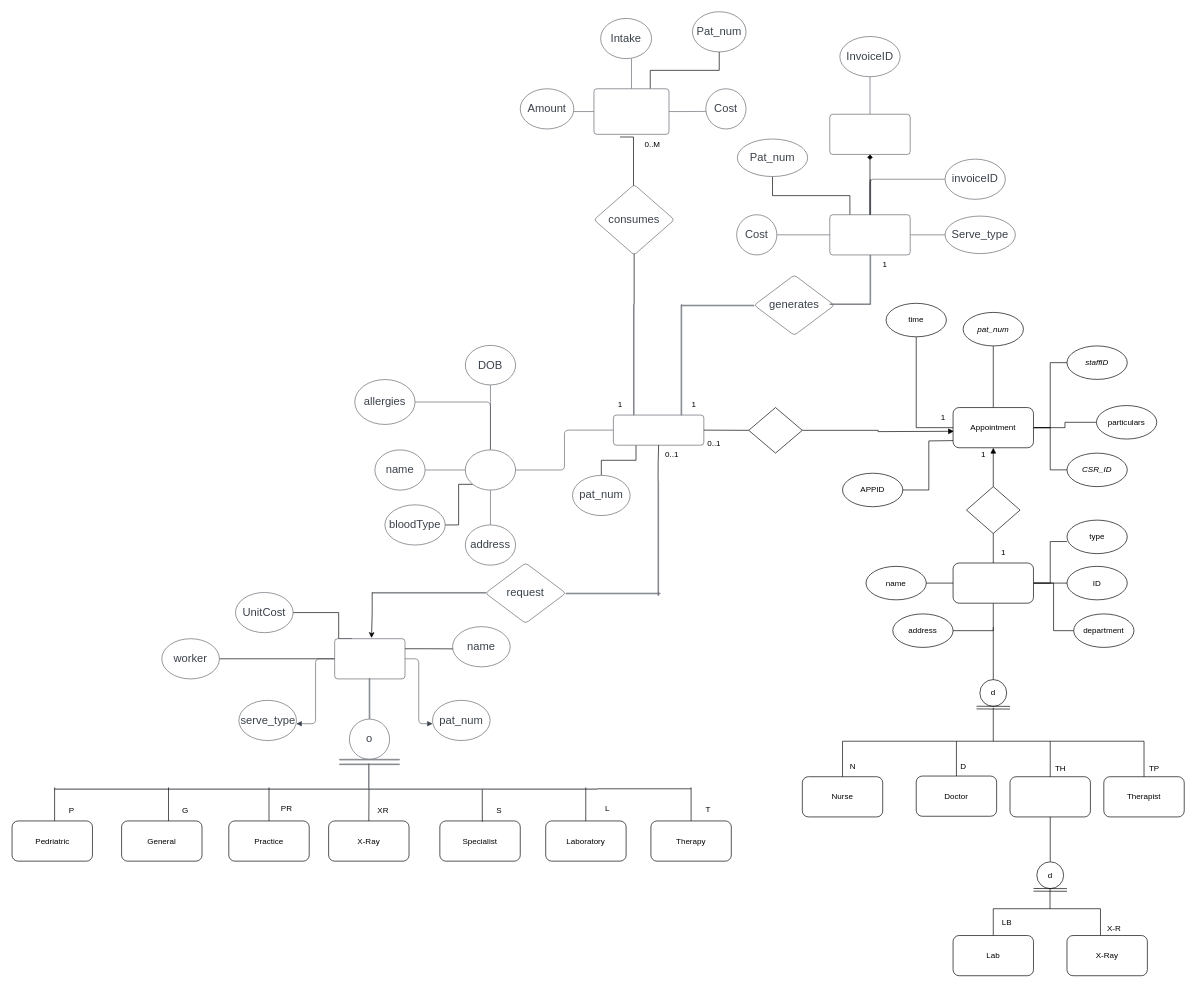
Image size: 1196x988. Some labels were removed from this diagram. The centre of each missing label's shape, as x and y in pixels:
accepts: point (993, 510)
details: point (490, 469)
Drug: point (631, 111)
Invoice: point (869, 234)
Patient: point (658, 429)
schedules: point (775, 430)
Service: point (369, 658)
Staff: point (992, 582)
Technician: point (1049, 796)
Treatment: point (869, 134)
